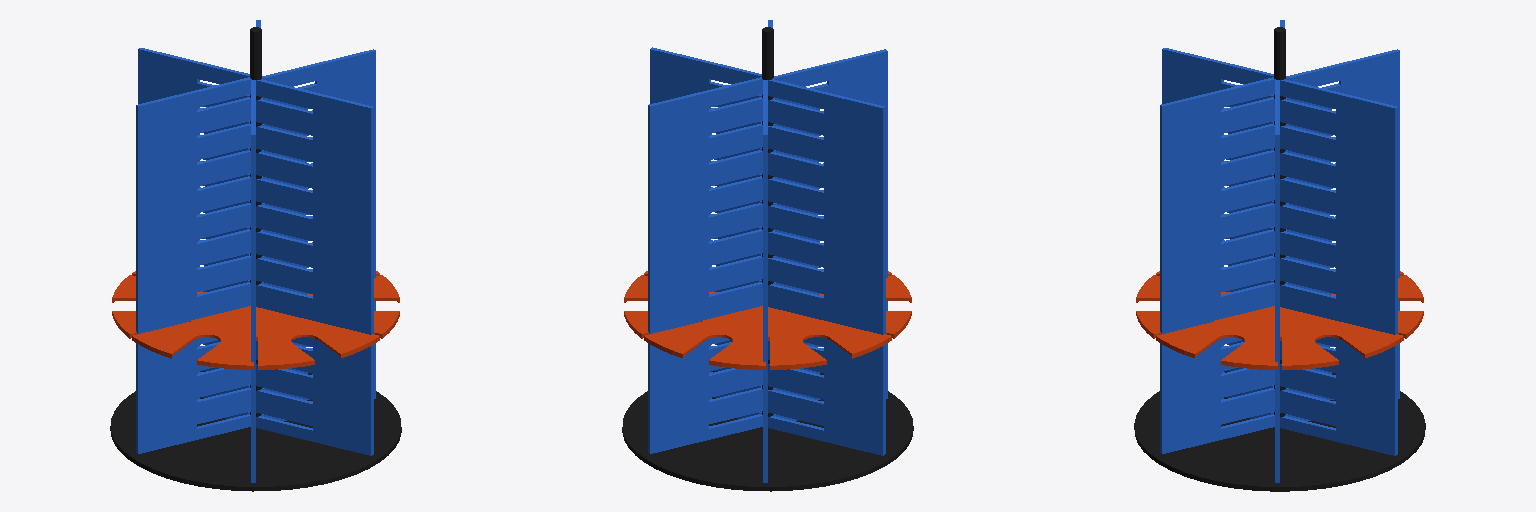
robot.urdf — carousel:
<?xml version="1.0"?>
<robot name="carousel">

  <!-- ========================================================= -->
  <!-- MATERIALS                                                  -->
  <!-- ========================================================= -->

  <material name="base_color">
    <color rgba="0.15 0.15 0.15 1.0"/>
  </material>

  <material name="holder_color">
    <color rgba="0.20 0.45 0.85 1.0"/>
  </material>

  <material name="plate_color">
    <color rgba="0.85 0.30 0.10 1.0"/>
  </material>


  <!-- ========================================================= -->
  <!-- BASE + CENTRAL SHAFT                                      -->
  <!-- ========================================================= -->

  <link name="base_link">

    <visual>
      <origin
        xyz="0 0 0"
        rpy="1.57079632679 0 0"/>

      <geometry>
        <mesh
          filename="package://carousel_description/meshes/carousal_base.stl"
          scale="0.001 0.001 0.001"/>
      </geometry>

      <material name="base_color"/>
    </visual>

    <collision>
      <origin
        xyz="0 0 0"
        rpy="1.57079632679 0 0"/>

      <geometry>
        <mesh
          filename="package://carousel_description/meshes/carousal_base.stl"
          scale="0.001 0.001 0.001"/>
      </geometry>
    </collision>

  </link>


  <!-- ========================================================= -->
  <!-- HOLDER 1                                                   -->
  <!-- ========================================================= -->

  <link name="holder_1">

    <visual>
      <origin xyz="0 0 0"
              rpy="1.57079632679 0 0"/>

      <geometry>
        <mesh
          filename="package://carousel_description/meshes/carousal_stand.stl"
          scale="0.001 0.001 0.001"/>
      </geometry>

      <material name="holder_color"/>
    </visual>

    <collision>
      <origin xyz="0 0 0"
              rpy="1.57079632679 0 0"/>

      <geometry>
        <mesh
          filename="package://carousel_description/meshes/carousal_stand.stl"
          scale="0.001 0.001 0.001"/>
      </geometry>
    </collision>

  </link>

  <joint name="holder_1_joint" type="fixed">
    <parent link="base_link"/>
    <child link="holder_1"/>

    <origin
      xyz="0.070 0 0.200"
      rpy="0 0 -1.57079632679"/>
  </joint>


  <!-- ========================================================= -->
  <!-- HOLDER 2                                                   -->
  <!-- ========================================================= -->

  <link name="holder_2">

    <visual>
      <origin xyz="0 0 0"
              rpy="1.57079632679 0 0"/>

      <geometry>
        <mesh
          filename="package://carousel_description/meshes/carousal_stand.stl"
          scale="0.001 0.001 0.001"/>
      </geometry>

      <material name="holder_color"/>
    </visual>

    <collision>
      <origin xyz="0 0 0"
              rpy="1.57079632679 0 0"/>

      <geometry>
        <mesh
          filename="package://carousel_description/meshes/carousal_stand.stl"
          scale="0.001 0.001 0.001"/>
      </geometry>
    </collision>

  </link>

  <joint name="holder_2_joint" type="fixed">
    <parent link="base_link"/>
    <child link="holder_2"/>

    <origin
      xyz="0.035 0.0606218 0.200"
      rpy="0 0 -0.52359877560"/>
  </joint>


  <!-- ========================================================= -->
  <!-- HOLDER 3                                                   -->
  <!-- ========================================================= -->

  <link name="holder_3">

    <visual>
      <origin xyz="0 0 0"
              rpy="1.57079632679 0 0"/>

      <geometry>
        <mesh
          filename="package://carousel_description/meshes/carousal_stand.stl"
          scale="0.001 0.001 0.001"/>
      </geometry>

      <material name="holder_color"/>
    </visual>

    <collision>
      <origin xyz="0 0 0"
              rpy="1.57079632679 0 0"/>

      <geometry>
        <mesh
          filename="package://carousel_description/meshes/carousal_stand.stl"
          scale="0.001 0.001 0.001"/>
      </geometry>
    </collision>

  </link>

  <joint name="holder_3_joint" type="fixed">
    <parent link="base_link"/>
    <child link="holder_3"/>

    <origin
      xyz="-0.035 0.0606218 0.200"
      rpy="0 0 0.52359877560"/>
  </joint>


  <!-- ========================================================= -->
  <!-- HOLDER 4                                                   -->
  <!-- ========================================================= -->

  <link name="holder_4">

    <visual>
      <origin xyz="0 0 0"
              rpy="1.57079632679 0 0"/>

      <geometry>
        <mesh
          filename="package://carousel_description/meshes/carousal_stand.stl"
          scale="0.001 0.001 0.001"/>
      </geometry>

      <material name="holder_color"/>
    </visual>

    <collision>
      <origin xyz="0 0 0"
              rpy="1.57079632679 0 0"/>

      <geometry>
        <mesh
          filename="package://carousel_description/meshes/carousal_stand.stl"
          scale="0.001 0.001 0.001"/>
      </geometry>
    </collision>

  </link>

  <joint name="holder_4_joint" type="fixed">
    <parent link="base_link"/>
    <child link="holder_4"/>

    <origin
      xyz="-0.070 0 0.200"
      rpy="0 0 1.57079632679"/>
  </joint>


  <!-- ========================================================= -->
  <!-- HOLDER 5                                                   -->
  <!-- ========================================================= -->

  <link name="holder_5">

    <visual>
      <origin xyz="0 0 0"
              rpy="1.57079632679 0 0"/>

      <geometry>
        <mesh
          filename="package://carousel_description/meshes/carousal_stand.stl"
          scale="0.001 0.001 0.001"/>
      </geometry>

      <material name="holder_color"/>
    </visual>

    <collision>
      <origin xyz="0 0 0"
              rpy="1.57079632679 0 0"/>

      <geometry>
        <mesh
          filename="package://carousel_description/meshes/carousal_stand.stl"
          scale="0.001 0.001 0.001"/>
      </geometry>
    </collision>

  </link>

  <joint name="holder_5_joint" type="fixed">
    <parent link="base_link"/>
    <child link="holder_5"/>

    <origin
      xyz="-0.035 -0.0606218 0.200"
      rpy="0 0 2.61799387799"/>
  </joint>


  <!-- ========================================================= -->
  <!-- HOLDER 6                                                   -->
  <!-- ========================================================= -->

  <link name="holder_6">

    <visual>
      <origin xyz="0 0 0"
              rpy="1.57079632679 0 0"/>

      <geometry>
        <mesh
          filename="package://carousel_description/meshes/carousal_stand.stl"
          scale="0.001 0.001 0.001"/>
      </geometry>

      <material name="holder_color"/>
    </visual>

    <collision>
      <origin xyz="0 0 0"
              rpy="1.57079632679 0 0"/>

      <geometry>
        <mesh
          filename="package://carousel_description/meshes/carousal_stand.stl"
          scale="0.001 0.001 0.001"/>
      </geometry>
    </collision>

  </link>

  <joint name="holder_6_joint" type="fixed">
    <parent link="base_link"/>
    <child link="holder_6"/>

    <origin
      xyz="0.035 -0.0606218 0.200"
      rpy="0 0 -2.61799387799"/>
  </joint>


  <!-- ========================================================= -->
  <!-- TOP CIRCULAR PLATE                                        -->
  <!-- holder_plates.stl                                         -->
  <!-- ========================================================= -->

  <link name="top_plate">

    <visual>

      <!-- CAD Y-up -> URDF Z-up -->
      <origin
        xyz="0 0 0"
        rpy="1.57079632679 0 0"/>

      <geometry>
        <mesh
          filename="package://carousel_description/meshes/holder_plates.stl"
          scale="0.001 0.001 0.001"/>
      </geometry>

      <material name="plate_color"/>

    </visual>

    <collision>

      <origin
        xyz="0 0 0"
        rpy="1.57079632679 0 0"/>

      <geometry>
        <mesh
          filename="package://carousel_description/meshes/holder_plates.stl"
          scale="0.001 0.001 0.001"/>
      </geometry>

    </collision>

  </link>


  <!-- ========================================================= -->
  <!-- TOP PLATE POSITION                                        -->
  <!-- ========================================================= -->

  <joint name="top_plate_joint" type="fixed">

    <parent link="base_link"/>
    <child link="top_plate"/>

    <!-- Top of the 455 mm central shaft -->
    <origin
      xyz="0 0 0.1375"
      rpy="0 0 0.5235987756"/>

  </joint>


</robot>

--- What the picture shows (computed from the rendered views, not written in the file) ---
3 views of the same robot in one strip: view 1: azimuth 30°, elevation 25°; view 2: azimuth 150°, elevation 25°; view 3: azimuth 270°, elevation 25° (orthographic).
Robot: carousel — 8 links, 7 joints (7 fixed); root link base_link; default pose: all joints at 0.
Visible links, largest first — view 1: holder_6, holder_4, base_link, top_plate, holder_1, holder_3, holder_5; view 2: holder_4, holder_2, base_link, top_plate, holder_5, holder_1, holder_3; view 3: holder_2, holder_6, base_link, top_plate, holder_3, holder_5, holder_1.
Link boxes in pixels (x1,y1,x2,y2): holder_6: (256,79,373,455); holder_4: (136,77,250,453); base_link: (110,27,401,491); top_plate: (112,271,399,369); holder_1: (261,49,375,420); holder_3: (138,48,249,418); holder_5: (251,79,255,482); holder_4: (768,79,885,455); holder_2: (648,77,762,453); base_link: (622,27,913,491); top_plate: (624,271,911,369); holder_5: (773,49,887,420); holder_1: (650,47,761,418); holder_3: (763,80,767,482); holder_2: (1280,79,1397,455); holder_6: (1160,77,1274,453); base_link: (1134,27,1425,491); top_plate: (1136,271,1423,369); holder_3: (1285,49,1399,420); holder_5: (1162,48,1273,418); holder_1: (1275,79,1279,482).
Size in the robot's own frame: 0.2997 by 0.2998 by 0.455 metres.
8 mesh visuals loaded from 3 distinct referenced files (3 binary STL).
